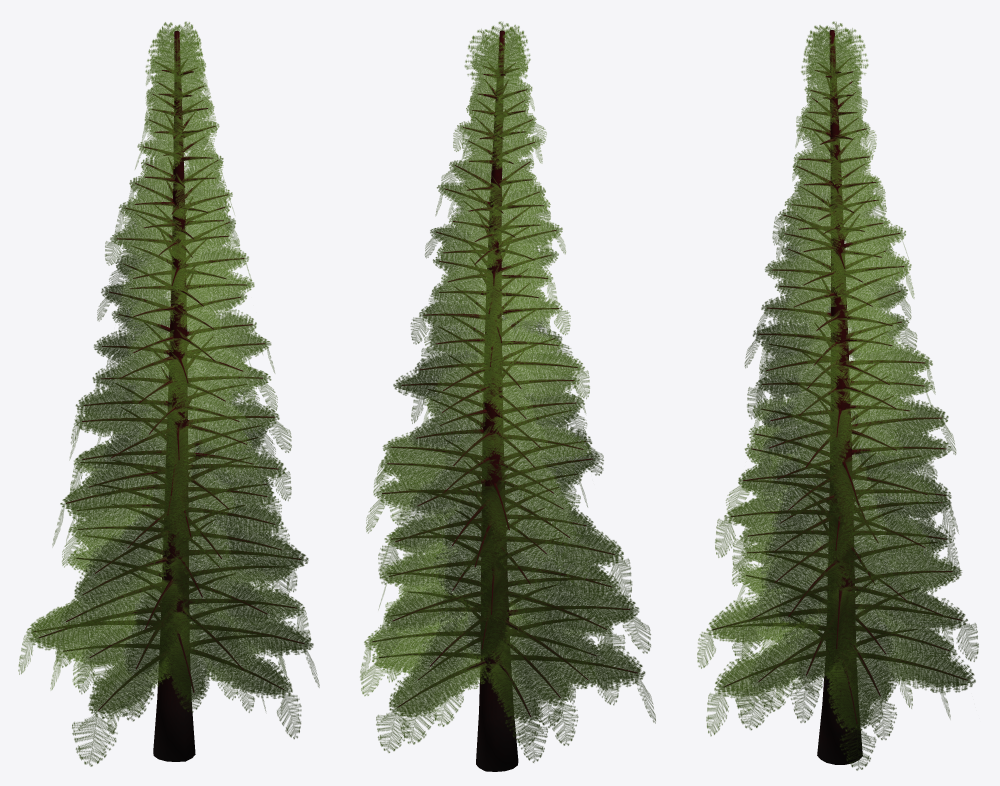
Rendered from larch_sparse_v01.glb.
The picture shows the model from 3 angles, left to right: view 1: azimuth 30°, elevation 25°; view 2: azimuth 150°, elevation 25°; view 3: azimuth 270°, elevation 25°; orthographic projection.
Parts seen in each view (by area): view 1: larch_sparse_v01; view 2: larch_sparse_v01; view 3: larch_sparse_v01.
Part boxes in pixels (left/top/right/bottom): larch_sparse_v01: left=18, top=21, right=319, bottom=766; larch_sparse_v01: left=360, top=21, right=655, bottom=771; larch_sparse_v01: left=697, top=21, right=978, bottom=770.
Bounding box in the file's own units: 5.37 × 14.21 × 5.16.
Materials: 2 (2 with a texture image).
